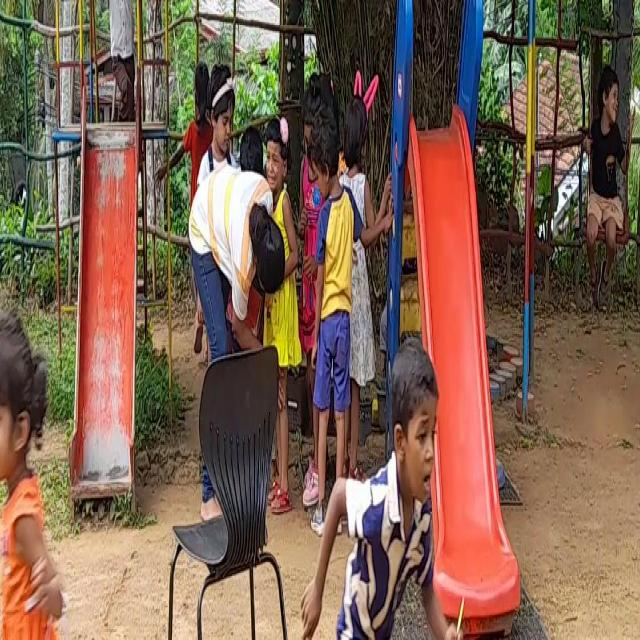child: (0, 328, 160, 640), (312, 312, 448, 640), (305, 119, 360, 457), (587, 34, 629, 328)
